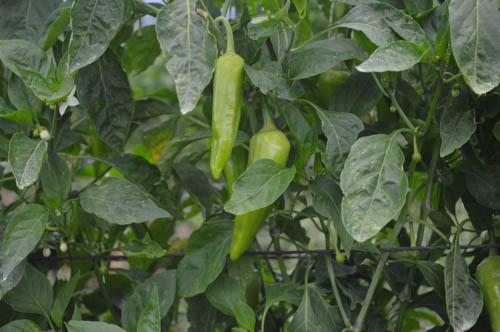ChiliPepper: (229, 138, 293, 266), (207, 55, 243, 183)
